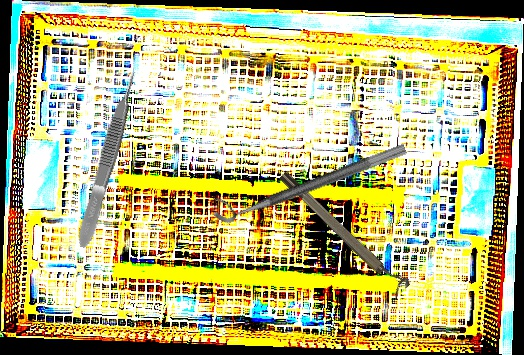Fixation Ring: (208, 127, 408, 228), (277, 164, 412, 299)
Tissue Forceps: (72, 69, 145, 250)
